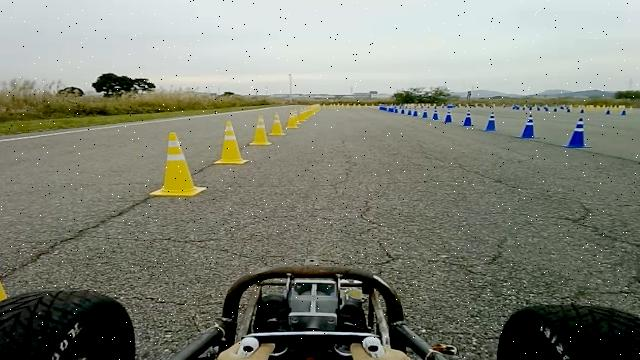blue cone: (562, 117, 592, 149), (516, 114, 540, 139), (482, 111, 499, 131), (461, 110, 474, 126), (444, 107, 453, 122), (432, 105, 440, 120), (420, 107, 428, 119), (411, 105, 419, 116)
yellow cone: (150, 131, 208, 197), (213, 120, 250, 164), (249, 114, 273, 145), (268, 111, 287, 136), (288, 102, 300, 128), (286, 108, 296, 130)
